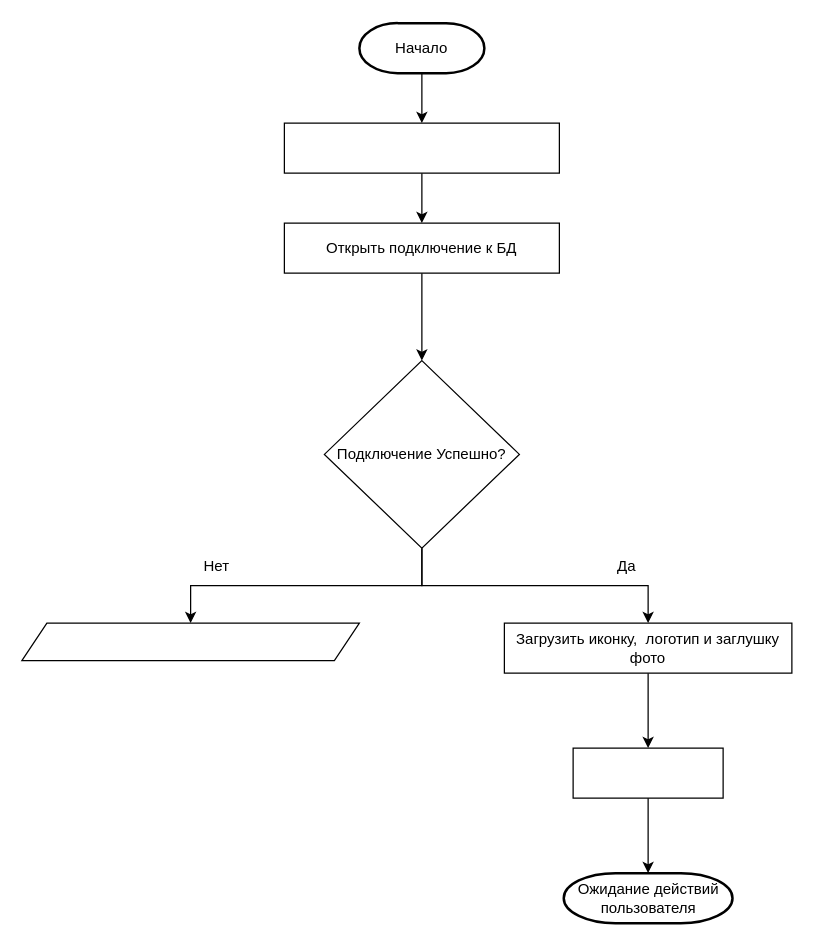
Some shapes in this 814 by 945 pixel diagram are drawn without their labels. The shapes that lost their labels are listed below. From the top down, each one's centre as x and y in pixels, then its label:
At (421,147): "Загрузить настройки приложения".
At (190,641): "Сообщение: проверить подключение к БД".
At (647,772): "Открыть окно входа".
